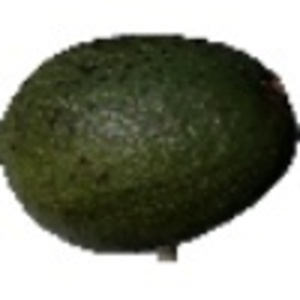abacate: (1, 33, 297, 248)
